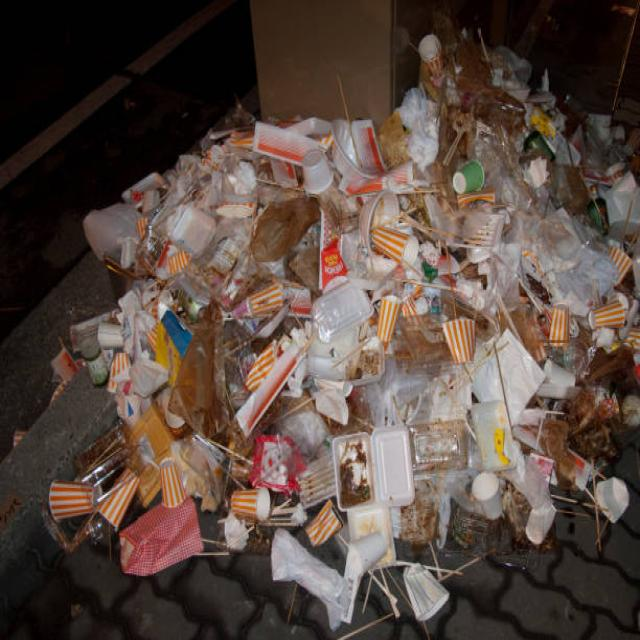plastic: (275, 128, 608, 368), (330, 409, 492, 545)
